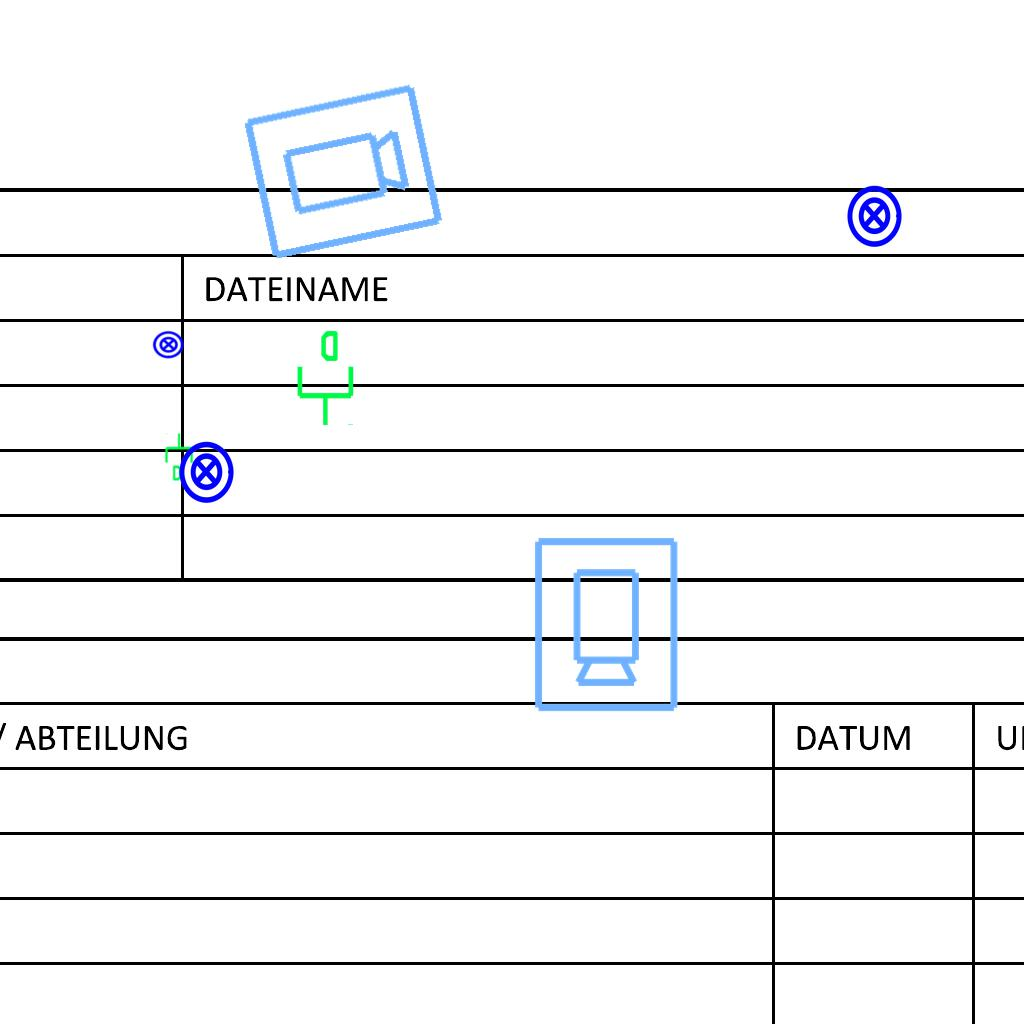Datenanschluss_einfach: (289, 328, 358, 428), (163, 432, 197, 482)
KFO_Kamera_mit_Festobjektiv: (237, 78, 449, 268), (528, 533, 682, 715)
Taster_beleuchtet: (841, 183, 907, 249), (173, 439, 239, 505), (152, 328, 185, 361)
